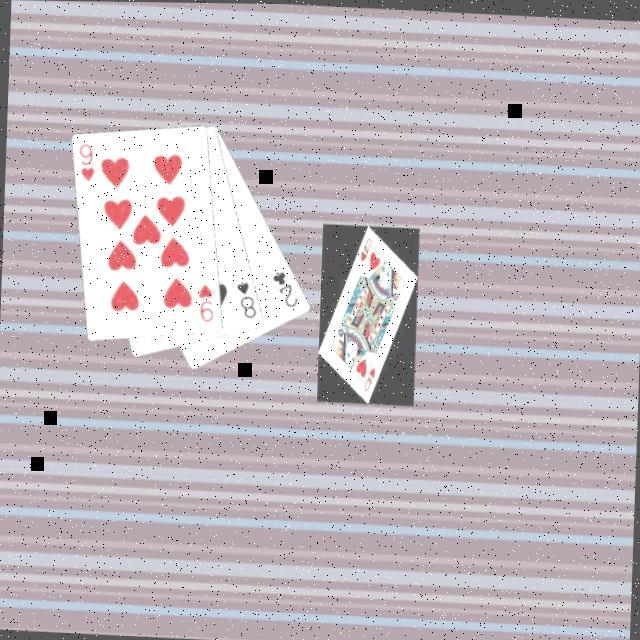2C: (270, 266, 304, 308)
8S: (235, 274, 262, 319)
9H: (76, 138, 100, 183), (195, 278, 219, 322)
